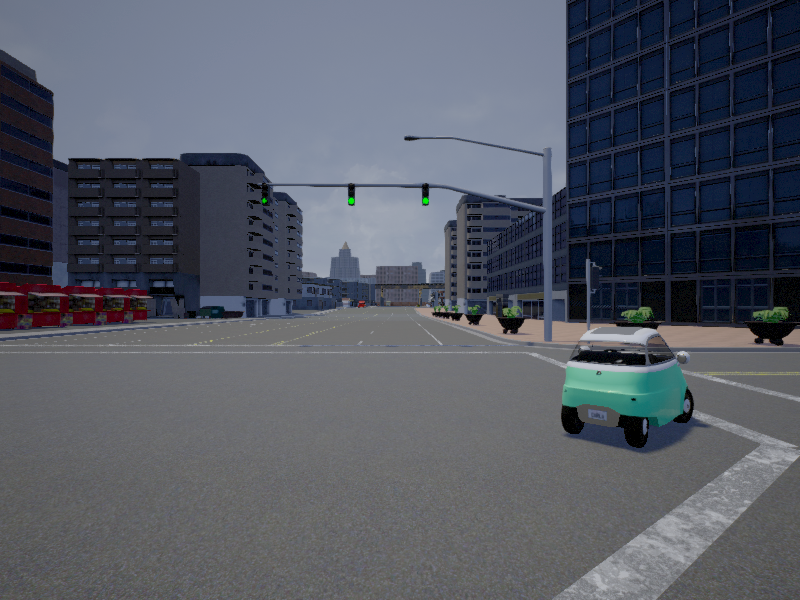Benign: (562, 328, 698, 452)
